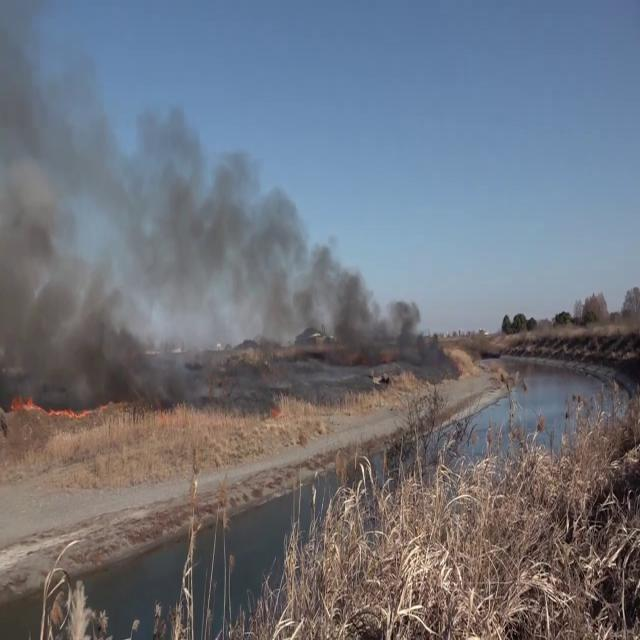Smoke: (1, 59, 450, 392)
